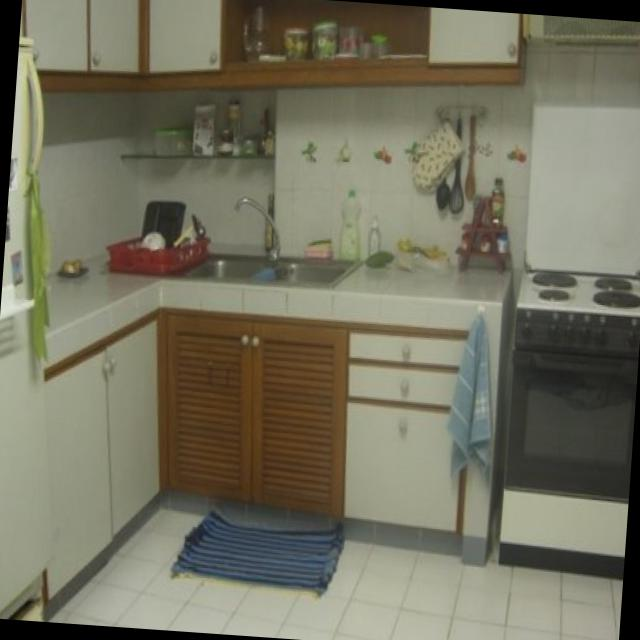dish occluded: (108, 234, 208, 272)
dish towels: (449, 311, 492, 484)
oven occluded: (413, 120, 468, 194)
rug -partially obscured-: (172, 506, 350, 589)
test tube: (506, 268, 640, 505)
